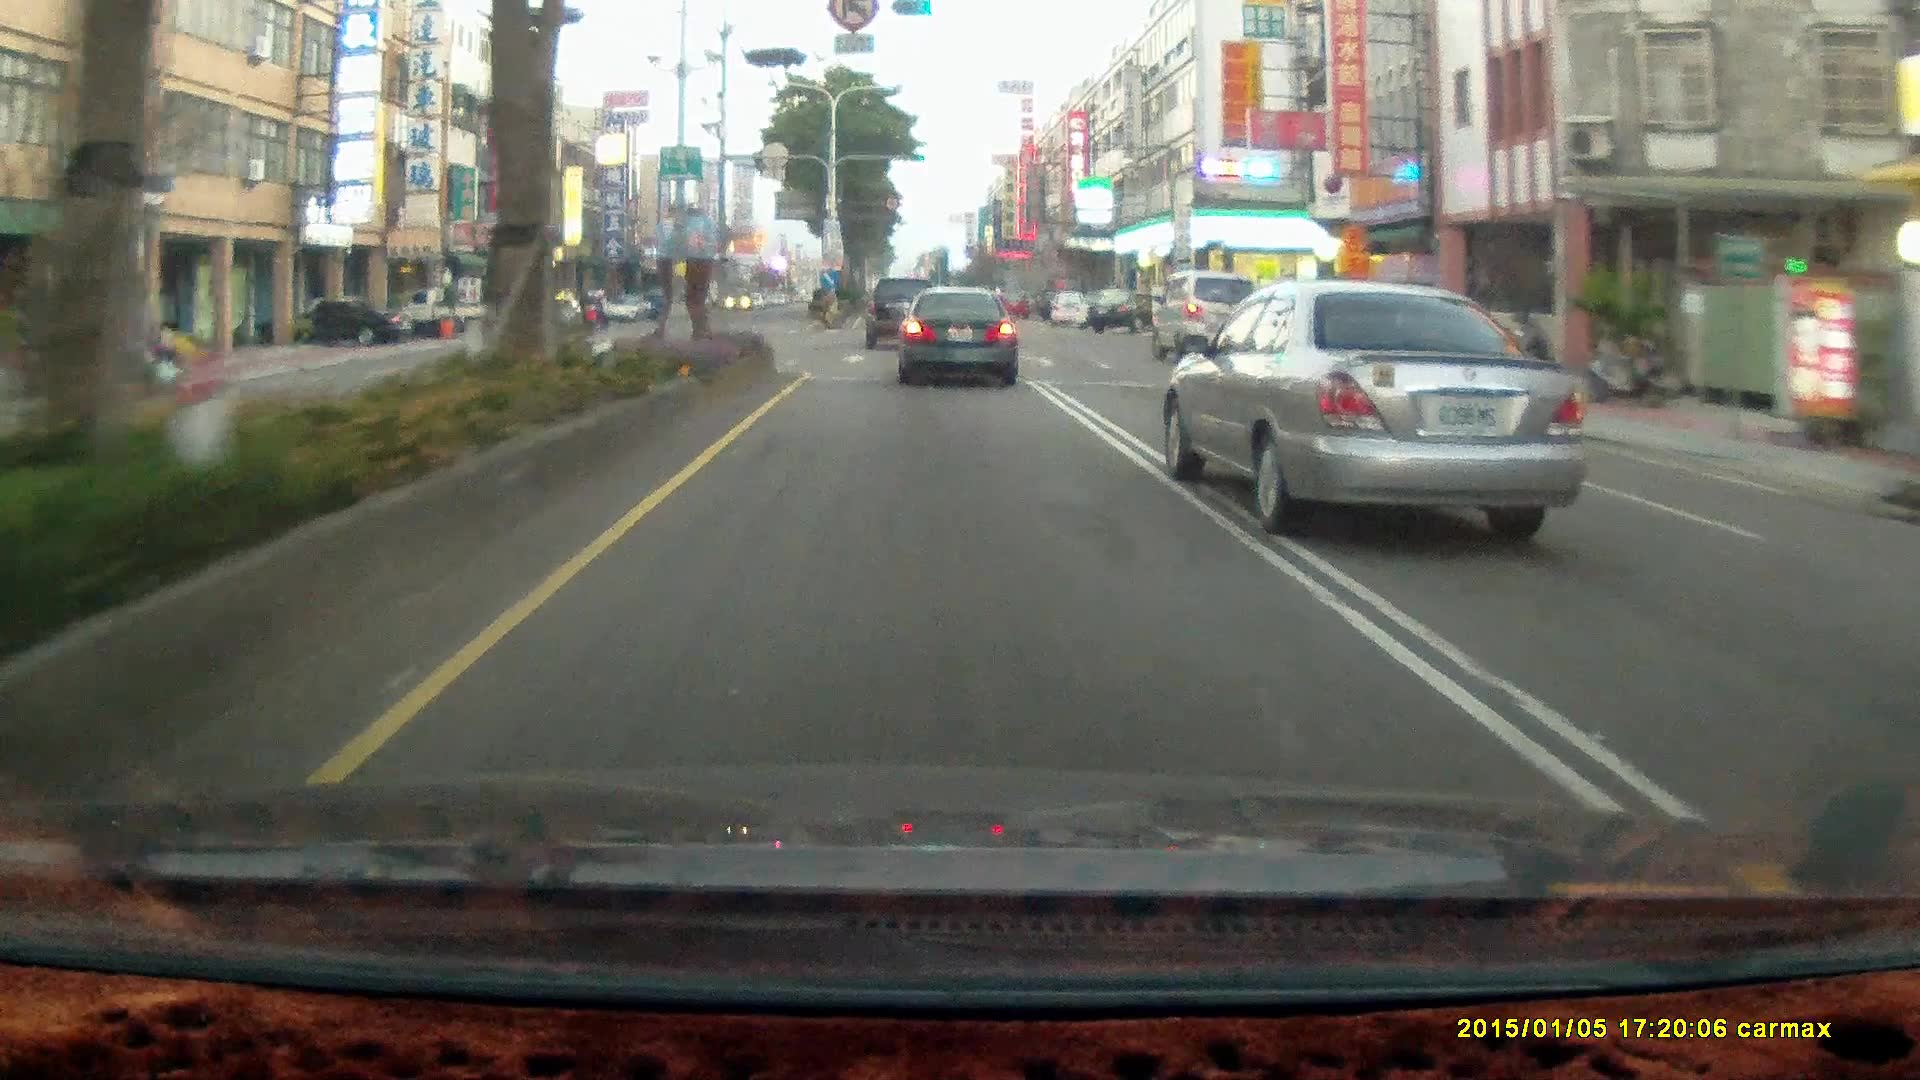rider: (581, 288, 612, 334)
vehicle: (1167, 278, 1603, 537), (897, 284, 1024, 391), (894, 284, 1017, 385), (1151, 269, 1262, 362), (1154, 270, 1265, 364), (269, 295, 405, 345), (864, 274, 942, 351), (297, 295, 406, 349), (864, 275, 940, 348), (401, 286, 501, 339), (392, 286, 493, 333), (1087, 287, 1166, 329), (1088, 286, 1143, 333), (1046, 287, 1090, 323), (610, 294, 649, 319)
